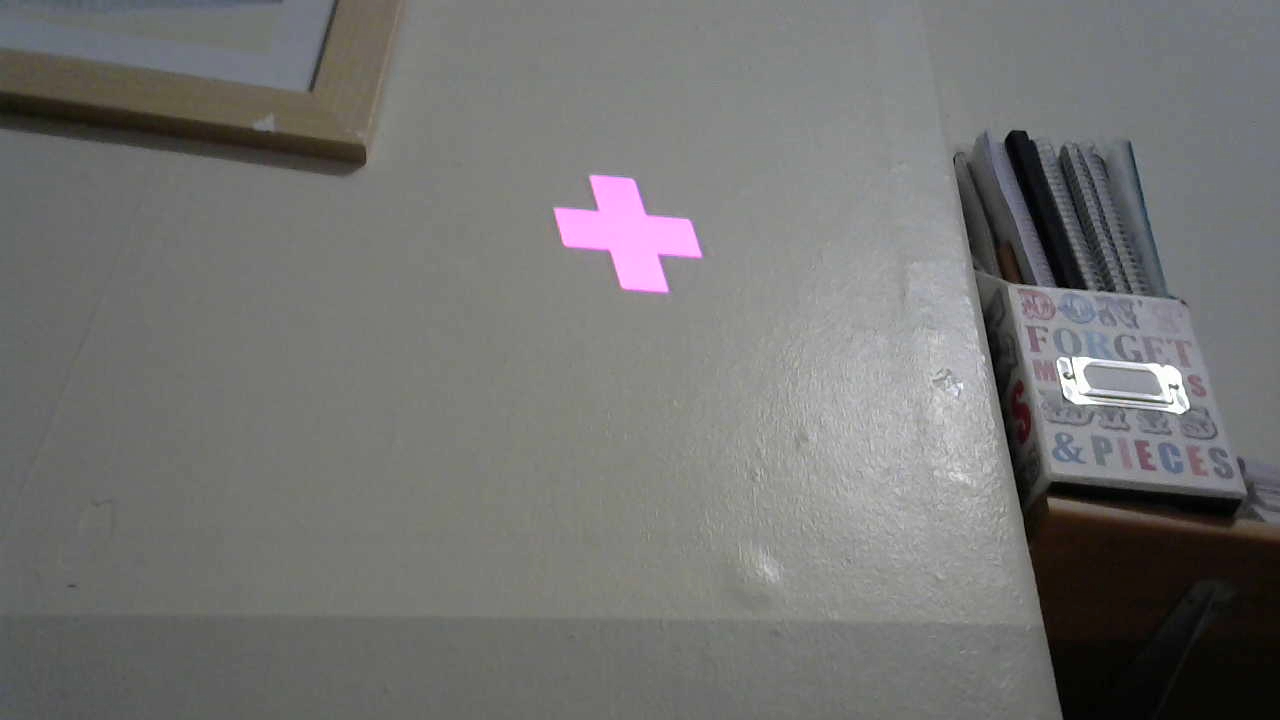calibration_symbol: (552, 175, 704, 296)
